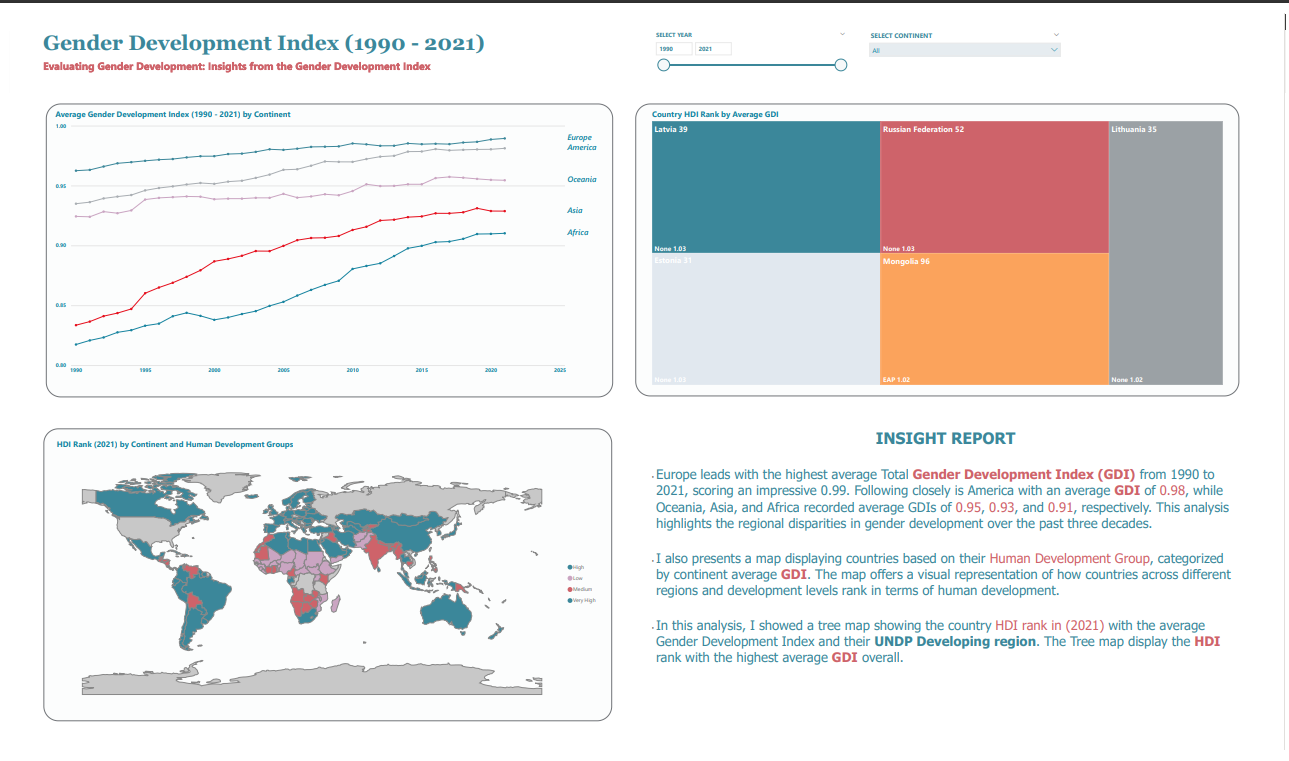

The page's visual inventory and layout, read from the dashboard file:
{"tool":"powerbi","page":{"name":"Page 1","canvas":[2600,1500],"ordinal":0},"visuals":[{"type":"shape","box":[1275.9,182.8,1231,596.6],"z":0},{"type":"shape","box":[69,844.8,1158.6,596.6],"z":1000},{"type":"shape","box":[73.6,183,1156.6,598.1],"z":2000},{"type":"lineChart","title":"Average Gender Development Index (1990 - 2021) by Continent","fields":{"Category":["Gender Development Index.Year"],"Y":["Avg(Gender Development Index.Value)"],"Series":["Gender Development Index.Continent"]},"box":[83.3,183.3,1137.5,566.7],"z":3000},{"type":"shapeMap","title":"HDI Rank (2021) by Continent and Human Development Groups","fields":{"Series":["Gender Development Index.Human Development Groups"],"Value":["Avg(Gender Development Index.Value)"],"Category":["Gender Development Index.Country"]},"box":[86.2,855.2,1127.6,586.2],"z":4000},{"type":"slicer","fields":{"Values":["Gender Development Index.Continent"]},"box":[1737.5,25,420.8,112.5],"z":5000},{"type":"treemap","title":"Country HDI Rank by Average GDI","fields":{"Group":["Gender Development Index.Country","Gender Development Index.HDI Rank (2021)"],"Values":["Avg(Gender Development Index.Value)"],"Details":["Gender Development Index.UNDP Developing Regions"]},"box":[1300,182.8,1182.8,582.8],"z":6000},{"type":"slicer","title":"Year","fields":{"Values":["Gender Development Index.Year"]},"box":[1300,25,420.8,112.5],"z":7000},{"type":"scatterChart","title":"Average HDI Rank (2021) by Human Development and Hemisphere","fields":{"X":["Avg(Gender Development Index.Value)"],"Category":["Gender Development Index.Human Development Groups"]},"box":[68.2,1795.5,786.4,495.5],"z":8000},{"type":"textbox","box":[986.8,1944.7,750,250],"z":9000},{"type":"textbox","box":[67.6,23.5,958.8,141.2],"z":10000},{"type":"textbox","box":[228.1,2318.8,1256.2,40.6],"z":11000},{"type":"image","box":[1410.8,2236.5,132.4,64.9],"z":12000},{"type":"textbox","box":[1500,2255.4,193.2,27],"z":13000},{"type":"textbox","box":[1300,844,1208,608],"z":14000}]}

Visuals, with their boxes in screenshot pixels (x1, y1, x2, y2), scaled from the page's 2600x1500 canvas onto the 1289x761 screenshot:
shape: <region>633, 93, 1243, 395</region>
shape: <region>34, 429, 609, 731</region>
shape: <region>36, 93, 610, 396</region>
"Average Gender Development Index (1990 - 2021) by Continent" lineChart: <region>41, 93, 605, 380</region>
"HDI Rank (2021) by Continent and Human Development Groups" shapeMap: <region>43, 434, 602, 731</region>
slicer - Gender Development Index.Continent: <region>861, 13, 1070, 70</region>
"Country HDI Rank by Average GDI" treemap: <region>644, 93, 1231, 388</region>
"Year" slicer: <region>644, 13, 853, 70</region>
textbox: <region>34, 12, 509, 84</region>
textbox: <region>644, 428, 1243, 737</region>
